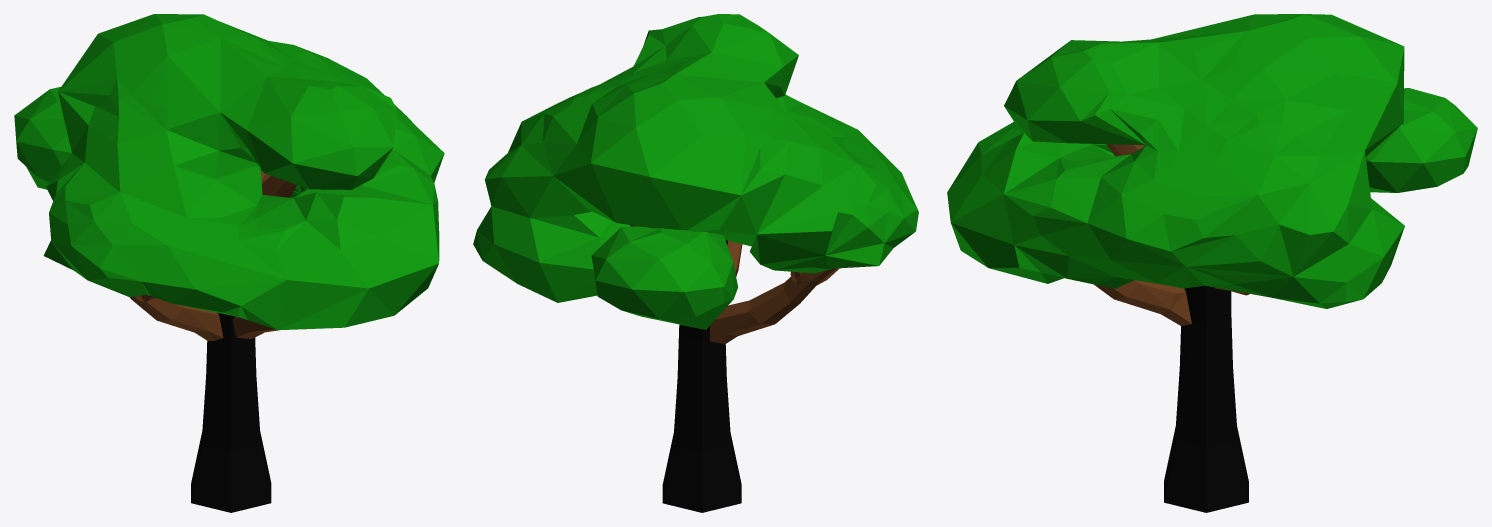
File: tree2.FBX
3 views of the same model, side by side, from view 1: azimuth 30°, elevation 25°; view 2: azimuth 150°, elevation 25°; view 3: azimuth 270°, elevation 25° (orthographic). The views are drawn at different scales.
Parts seen in each view (by area): view 1: GeoSphere011; view 2: GeoSphere011; view 3: GeoSphere011.
Boxes of the visible parts, box(x1,y1,x2,y2) form: GeoSphere011: box(14, 14, 444, 512); GeoSphere011: box(473, 14, 918, 512); GeoSphere011: box(947, 14, 1477, 512).
Bounding box in the file's own units: 95.08 × 112 × 114.
